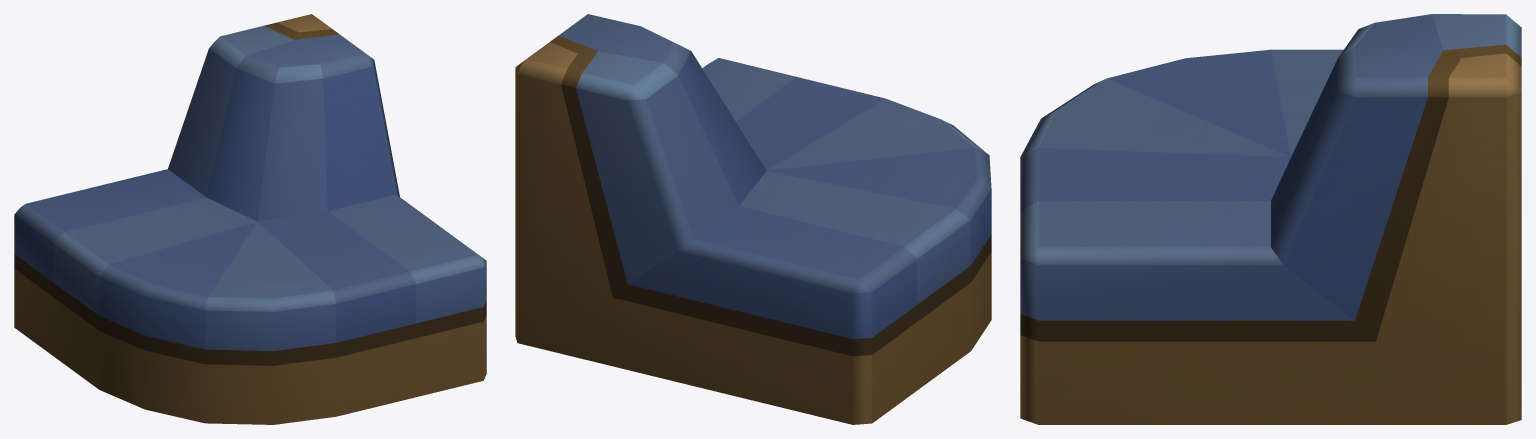
File: chair_roof_corner_conv_blue.fbx
3 renders of one model, left to right at view 1: azimuth 30°, elevation 25°; view 2: azimuth 150°, elevation 25°; view 3: azimuth 270°, elevation 25°, orthographic. The views are drawn at different scales.
Parts seen in each view (by area): view 1: chair_roof_corner_conv_blue; view 2: chair_roof_corner_conv_blue; view 3: chair_roof_corner_conv_blue.
Part boxes in pixels (left/top/right/bottom): chair_roof_corner_conv_blue: left=14, top=14, right=486, bottom=424; chair_roof_corner_conv_blue: left=515, top=14, right=991, bottom=424; chair_roof_corner_conv_blue: left=1020, top=14, right=1521, bottom=424.
Bounding box in the file's own units: 100 × 75 × 100.
